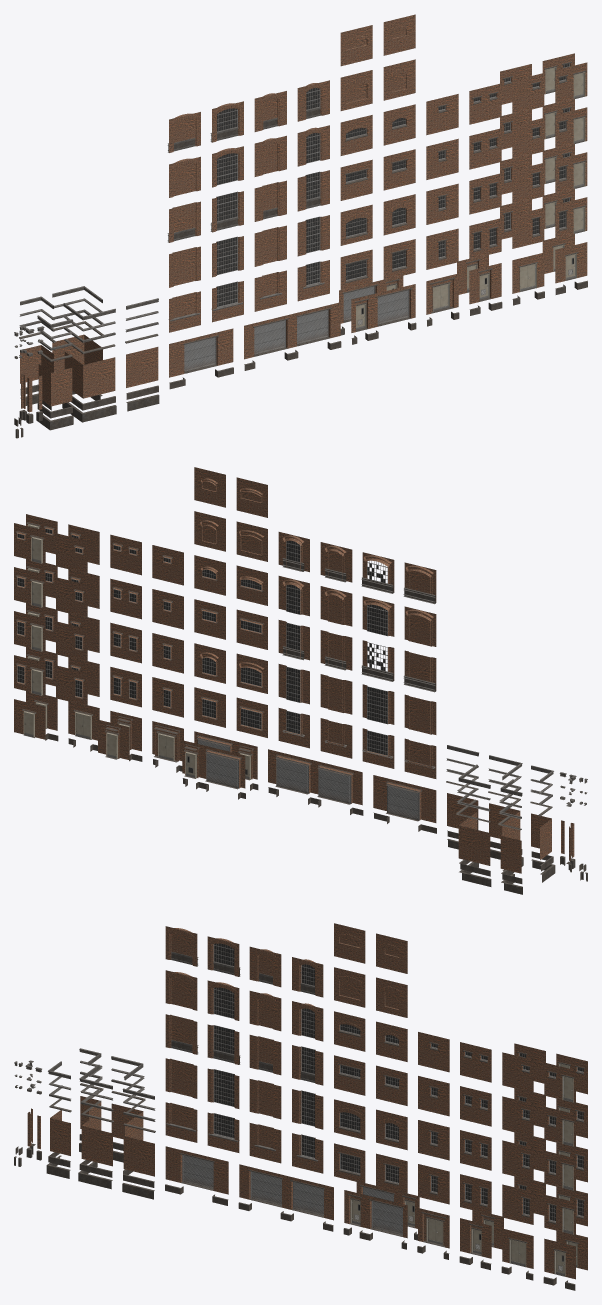
Rendered from modular_factory_facade.glb.
3 renders of one model, top to bottom at view 1: azimuth 30°, elevation 25°; view 2: azimuth 150°, elevation 25°; view 3: azimuth 330°, elevation 25°, orthographic.
Visible parts, largest first — view 1: door_garage_double_01, wall_standard_corner_large_01, wall_door_garage_double_01, door_garage_door_01, wall_door_garage_centered_01, wall_window_centered_medium_05, wall_window_tall_small_09, wall_standard_standard_01, wall_window_centered_large_05, wall_window_centered_medium_06, wall_window_tall_small_07, wall_window_centered_large_06 (+57 smaller); view 2: door_garage_double_01, door_garage_door_02, wall_door_garage_double_01, wall_door_garage_centered_01, wall_standard_corner_large_02, wall_window_tall_large_09, wall_window_tall_small_09, wall_window_tall_large_07, wall_window_tall_small_07, wall_window_tall_small_06, wall_window_tall_large_06, wall_window_centered_medium_06 (+62 smaller); view 3: door_garage_double_01, wall_door_garage_double_01, door_garage_door_01, wall_door_garage_centered_01, wall_standard_corner_large_01, wall_window_tall_large_09, wall_window_tall_large_07, wall_window_tall_small_07, wall_window_tall_small_09, wall_window_tall_small_06, wall_window_centered_large_05, wall_window_tall_large_06 (+67 smaller).
Boxes of the visible parts, x1,y1,x2,y2 form: door_garage_double_01: [253, 307, 331, 356]; wall_standard_corner_large_01: [64, 352, 115, 398]; wall_door_garage_double_01: [244, 302, 340, 359]; door_garage_door_01: [355, 288, 412, 331]; wall_door_garage_centered_01: [169, 328, 233, 377]; wall_window_centered_medium_05: [383, 59, 415, 100]; wall_window_tall_small_09: [254, 135, 286, 176]; wall_standard_standard_01: [126, 347, 158, 387]; wall_window_centered_large_05: [340, 70, 372, 110]; wall_window_centered_medium_06: [383, 14, 415, 55]; wall_window_tall_small_07: [254, 225, 286, 266]; wall_window_centered_large_06: [340, 25, 372, 66]; door_garage_double_01: [275, 754, 353, 804]; door_garage_door_02: [184, 744, 241, 789]; wall_door_garage_double_01: [268, 749, 362, 805]; wall_door_garage_centered_01: [373, 775, 436, 822]; wall_standard_corner_large_02: [458, 812, 490, 865]; wall_window_tall_large_09: [404, 606, 436, 646]; wall_window_tall_small_09: [320, 586, 352, 626]; wall_window_tall_large_07: [404, 694, 436, 734]; wall_window_tall_small_07: [320, 674, 352, 714]; wall_window_tall_small_06: [320, 718, 352, 758]; wall_window_tall_large_06: [404, 738, 436, 778]; wall_window_centered_medium_06: [194, 467, 225, 507]; door_garage_double_01: [248, 1169, 324, 1217]; wall_door_garage_double_01: [239, 1164, 333, 1220]; door_garage_door_01: [348, 1194, 403, 1236]; wall_door_garage_centered_01: [165, 1146, 228, 1194]; wall_standard_corner_large_01: [81, 1112, 112, 1166]; wall_window_tall_large_09: [165, 970, 197, 1010]; wall_window_tall_large_07: [165, 1058, 197, 1098]; wall_window_tall_small_07: [249, 1079, 281, 1119]; wall_window_tall_small_09: [249, 991, 281, 1031]; wall_window_tall_small_06: [249, 1123, 281, 1163]; wall_window_centered_large_05: [334, 967, 365, 1007]; wall_window_tall_large_06: [165, 1102, 197, 1142].
Bounding box in the file's own units: 53.33 × 29 × 5.36.
6 materials, 6 textured.
